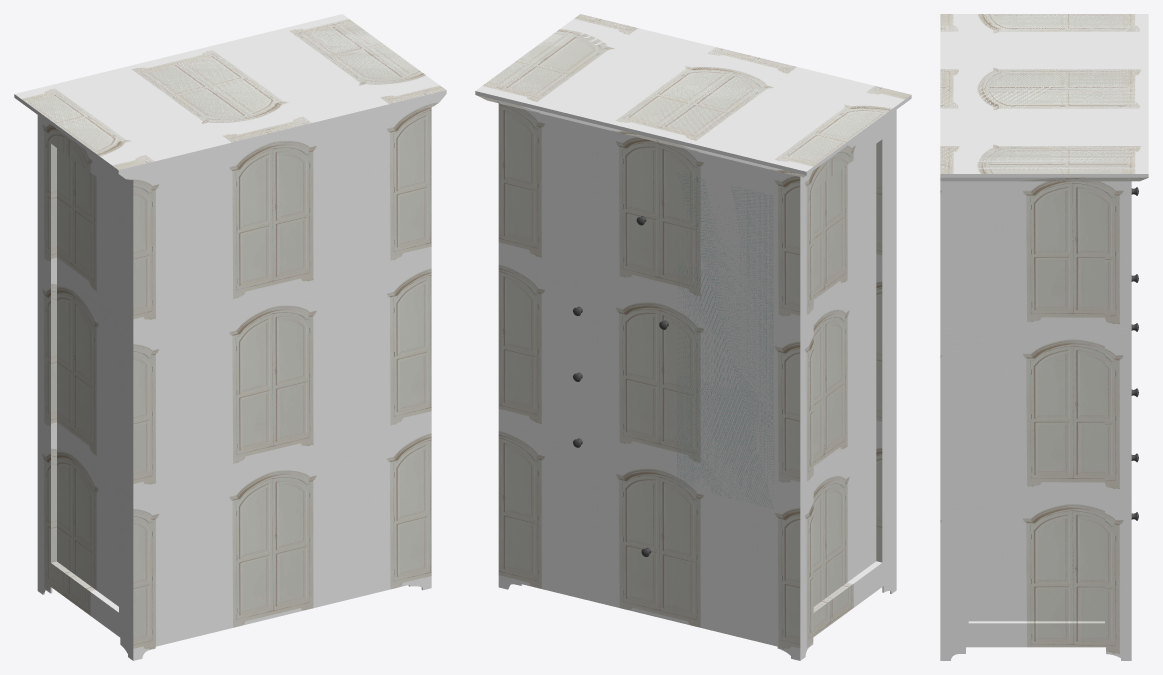
The picture shows the model from 3 angles, left to right: view 1: azimuth 30°, elevation 25°; view 2: azimuth 150°, elevation 25°; view 3: azimuth 270°, elevation 25°; orthographic projection.
Parts seen in each view (by area): view 1: mesh4_mesh4-geometry, mesh1_mesh1-geometry; view 2: mesh4_mesh4-geometry; view 3: mesh4_mesh4-geometry.
Boxes of the visible parts, box(x1,y1,x2,y2) form: mesh4_mesh4-geometry: box(14, 14, 446, 646); mesh1_mesh1-geometry: box(120, 574, 431, 660); mesh4_mesh4-geometry: box(475, 14, 911, 660); mesh4_mesh4-geometry: box(940, 14, 1148, 660).
Size of the model in its own units: 0.5443 by 0.7837 by 0.2993.
